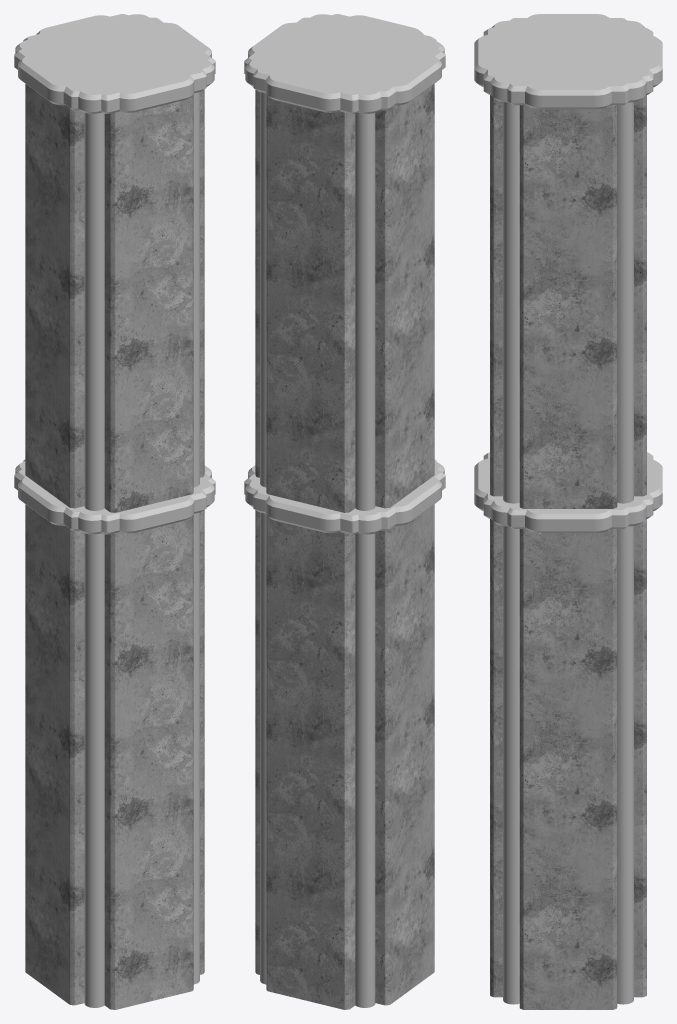
File: SM_TowerPillar_01a.fbx
3 views of the same model, side by side, from view 1: azimuth 30°, elevation 25°; view 2: azimuth 150°, elevation 25°; view 3: azimuth 270°, elevation 25° (orthographic).
Visible parts, largest first — view 1: SM_TowerPillar_01a_LOD0; view 2: SM_TowerPillar_01a_LOD0; view 3: SM_TowerPillar_01a_LOD0.
Part boxes in pixels (<box>): SM_TowerPillar_01a_LOD0: <box>14,14,215,1009</box>; SM_TowerPillar_01a_LOD0: <box>244,14,445,1009</box>; SM_TowerPillar_01a_LOD0: <box>474,14,662,1009</box>.
Size of the model in its own units: 443 by 443 by 2400.
